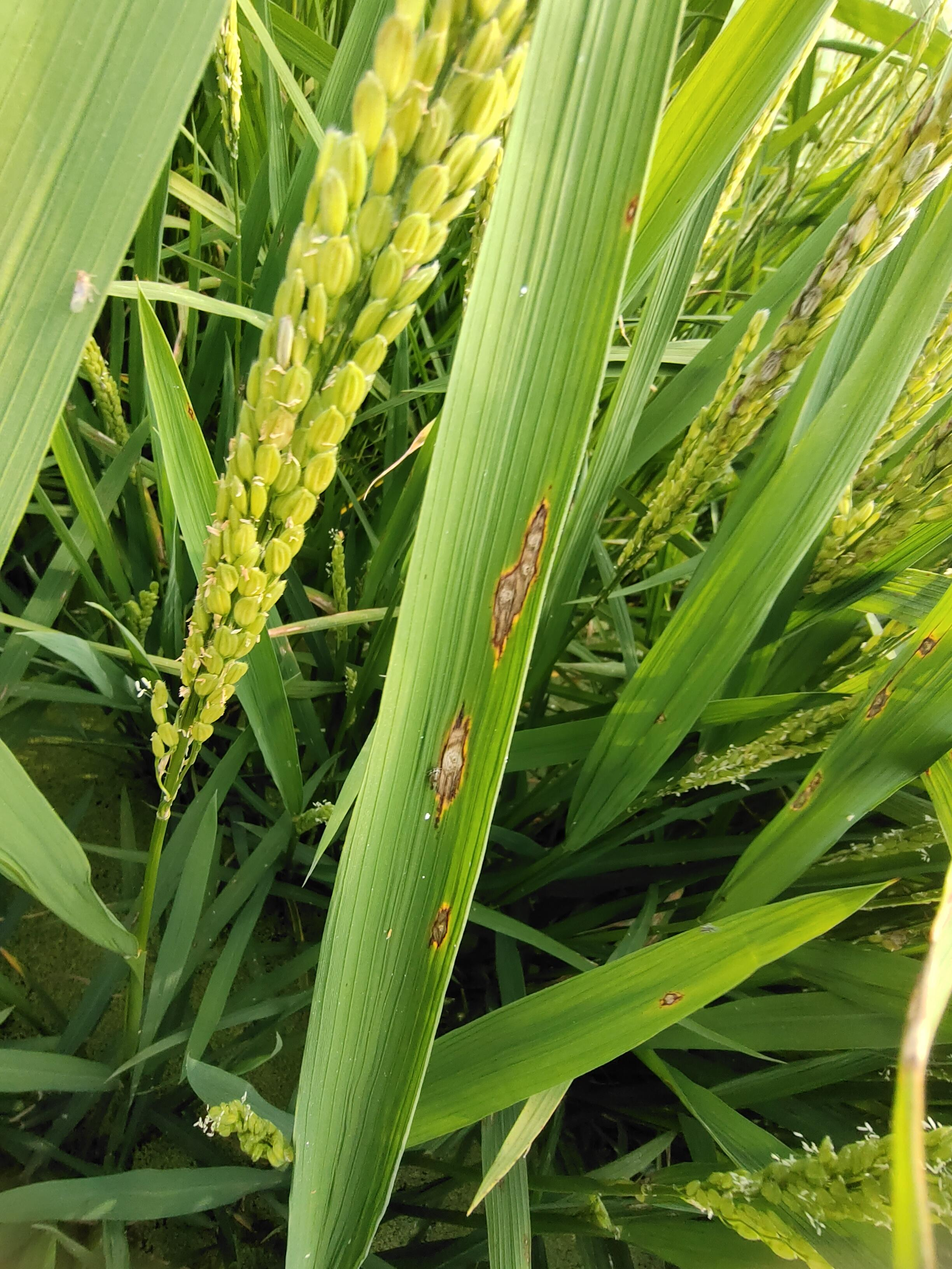LEAF: (286, 0, 683, 1269)
LEAF BLAST: (492, 502, 548, 660), (429, 707, 470, 822), (430, 904, 450, 948), (625, 194, 639, 227)
